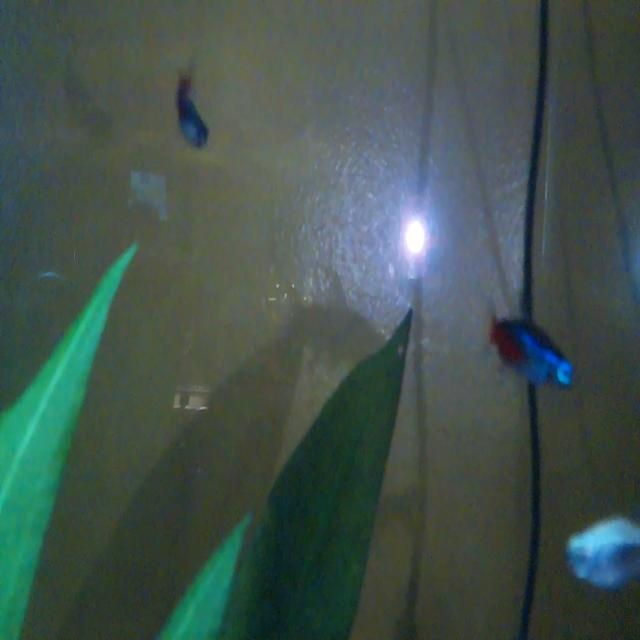fish: (480, 290, 581, 406), (547, 496, 640, 607), (168, 54, 216, 164)
